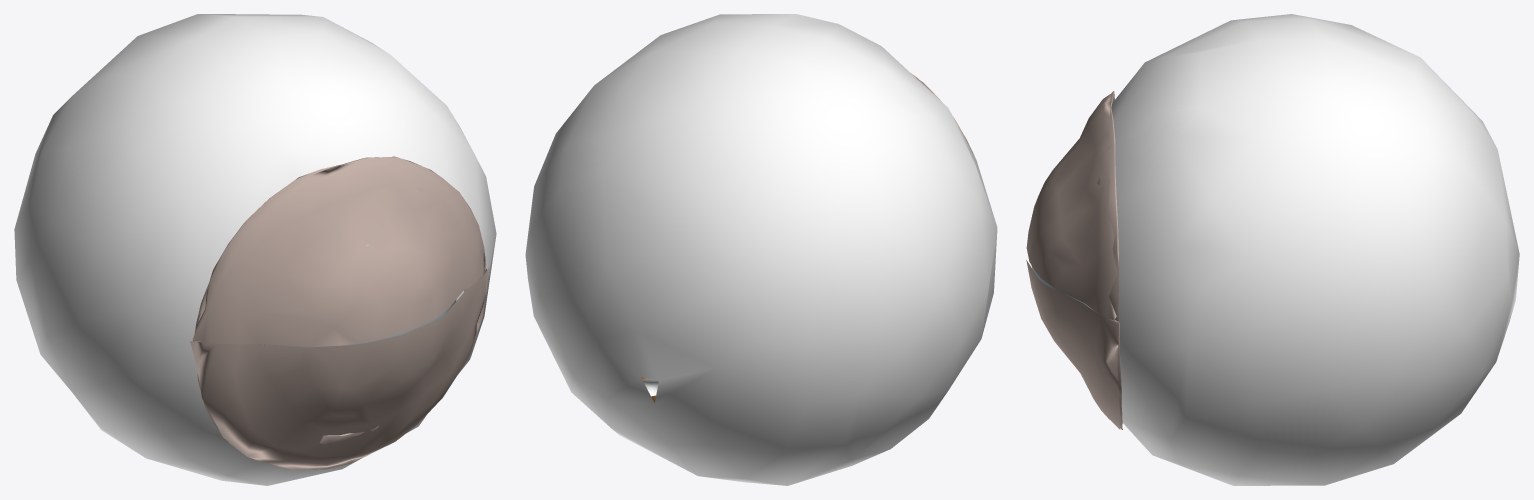
File: eye_r.glb
The picture shows the model from 3 angles, left to right: view 1: azimuth 30°, elevation 25°; view 2: azimuth 150°, elevation 25°; view 3: azimuth 270°, elevation 25°; orthographic projection.
Visible parts, largest first — view 1: VH_F_sclera_R, VH_F_palpebral_conjunctiva_of_right_upper_eyelid, VH_F_palpebral_conjunctiva_of_right_lower_eyelid, VH_F_bulbar_conjunctiva_R; view 2: VH_F_sclera_R; view 3: VH_F_sclera_R, VH_F_palpebral_conjunctiva_of_right_upper_eyelid, VH_F_palpebral_conjunctiva_of_right_lower_eyelid, VH_F_bulbar_conjunctiva_R.
Boxes of the visible parts, x1=… form: VH_F_sclera_R: x1=14, y1=14, x2=496, y2=485; VH_F_palpebral_conjunctiva_of_right_upper_eyelid: x1=192, y1=161, x2=485, y2=347; VH_F_palpebral_conjunctiva_of_right_lower_eyelid: x1=190, y1=267, x2=489, y2=469; VH_F_bulbar_conjunctiva_R: x1=192, y1=156, x2=486, y2=469; VH_F_sclera_R: x1=525, y1=14, x2=997, y2=485; VH_F_sclera_R: x1=1088, y1=14, x2=1519, y2=485; VH_F_palpebral_conjunctiva_of_right_upper_eyelid: x1=1026, y1=94, x2=1118, y2=322; VH_F_palpebral_conjunctiva_of_right_lower_eyelid: x1=1026, y1=260, x2=1120, y2=429; VH_F_bulbar_conjunctiva_R: x1=1090, y1=91, x2=1122, y2=429.
Bounding box in the file's own units: 0.0242 × 0.0242 × 0.0254.
